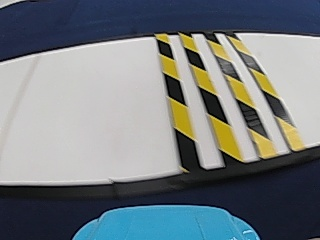bump: (153, 39, 298, 158)
